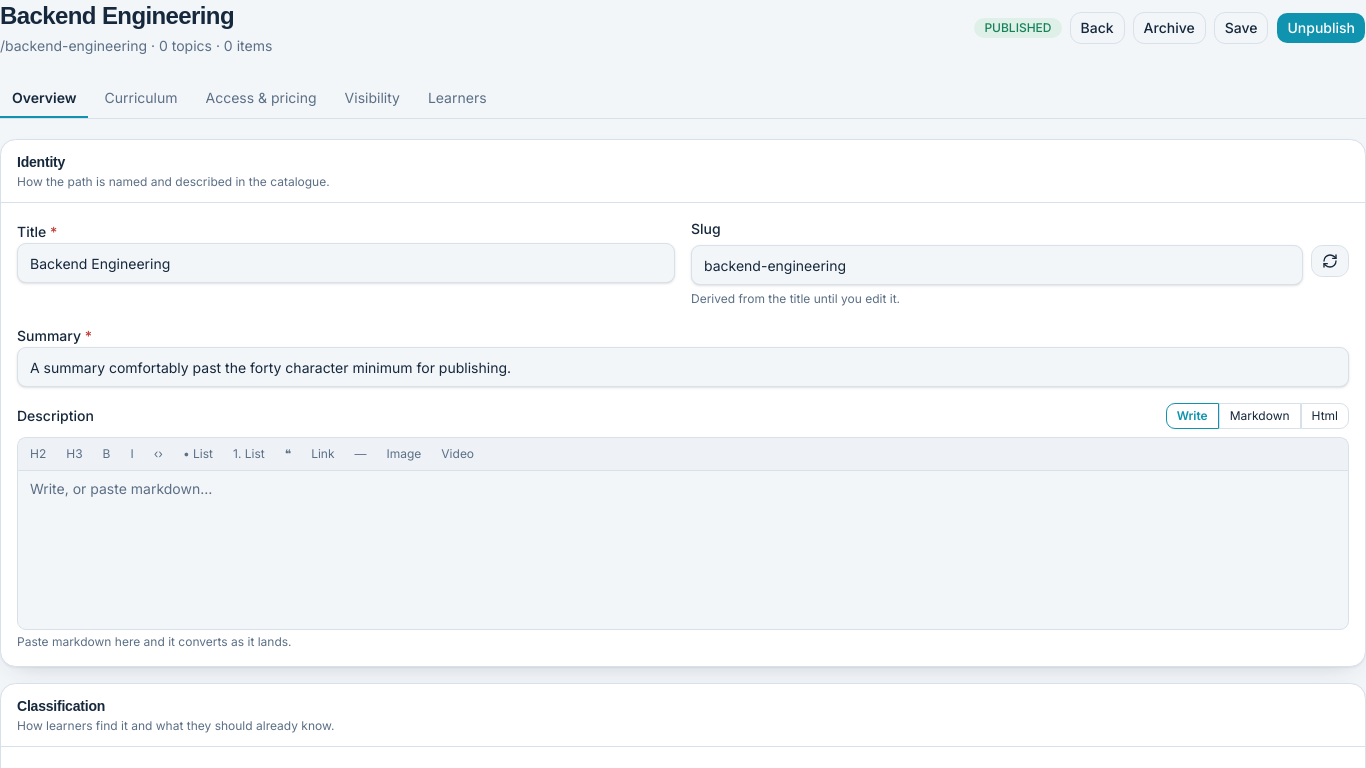
PathDetailClient — Paddle field gating › still renders both Paddle inputs for an admin
Click the tab "Access & pricing": point(261, 99) [194,80,329,118]
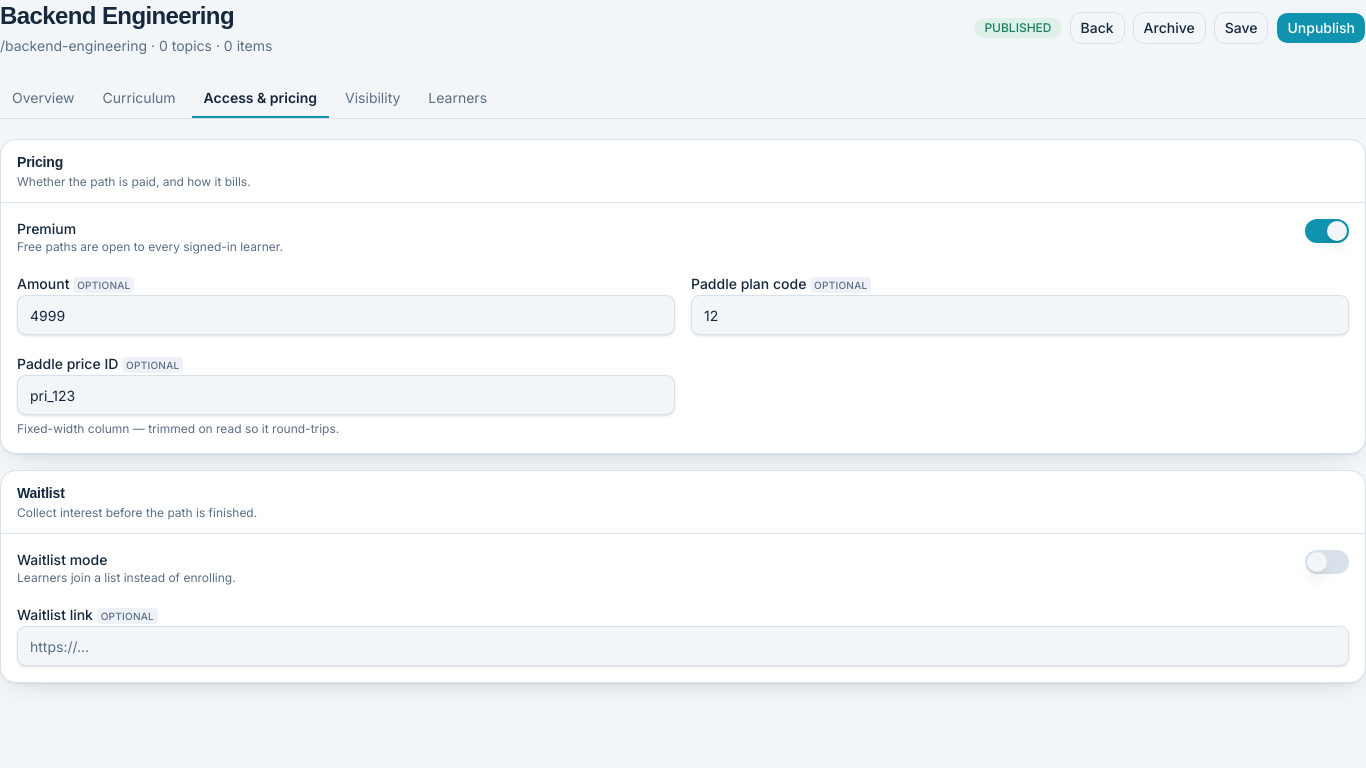
Result: the heading "Pricing" is shown at [17,154,63,170]
Result: the number field labelled "Paddle plan code optional" is shown at [691,295,1349,335]
Result: the field labelled "Paddle price ID optional" is shown at [17,375,675,415]
